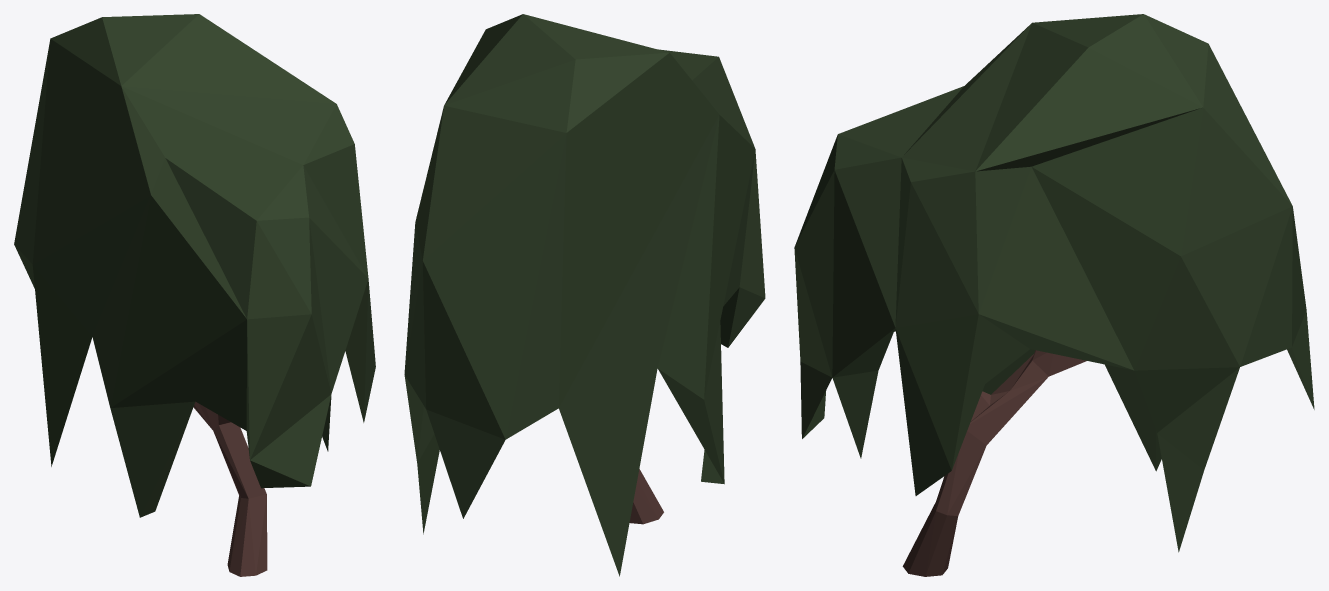
File: Willow_1_lod.glb
3 renders of one model, left to right at view 1: azimuth 30°, elevation 25°; view 2: azimuth 150°, elevation 25°; view 3: azimuth 270°, elevation 25°, orthographic. The views are drawn at different scales.
Visible parts, largest first — view 1: Willow_1; view 2: Willow_1; view 3: Willow_1.
Part boxes in pixels (x1,y1,x2,y2): Willow_1: [14, 14, 375, 576]; Willow_1: [404, 14, 765, 576]; Willow_1: [794, 14, 1314, 576].
Bounding box in the file's own units: 1.44 × 2.84 × 2.51.
